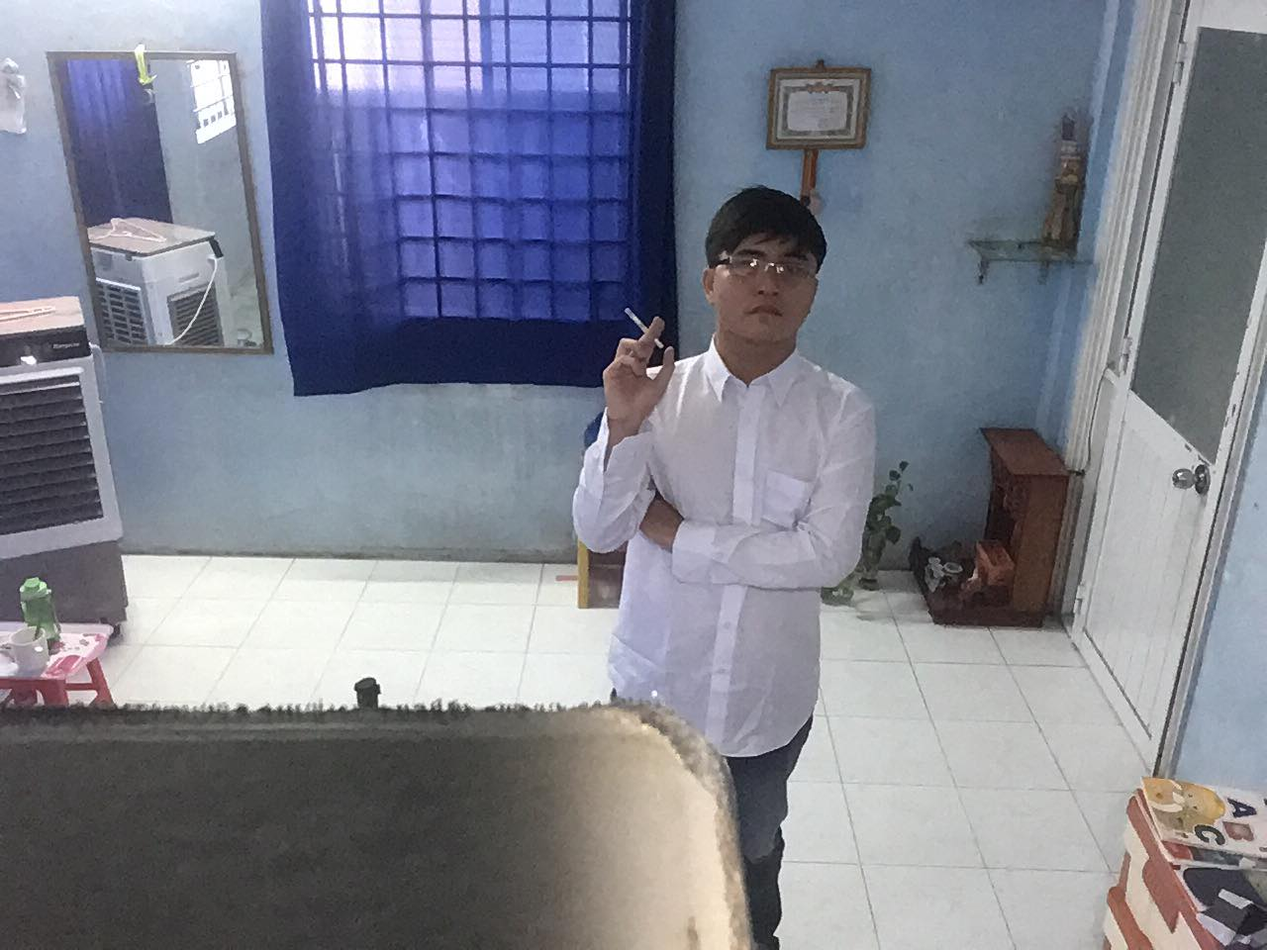cigarette: (625, 306, 670, 350)
person: (567, 162, 896, 950)
